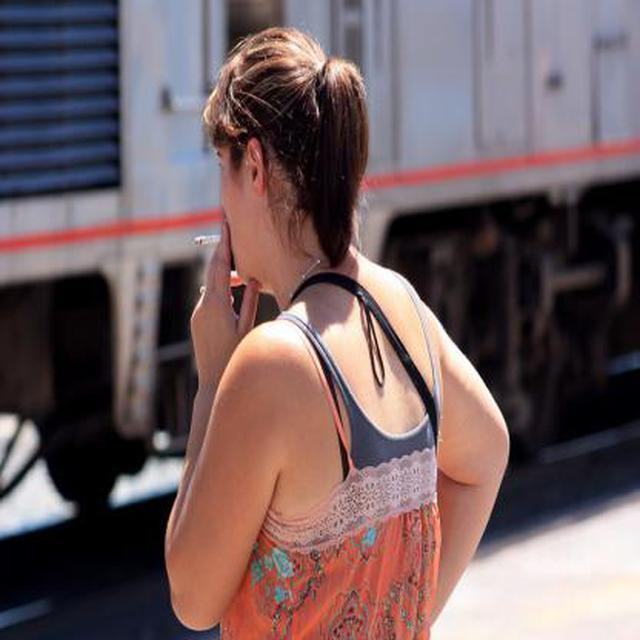smoking: (185, 228, 235, 250)
